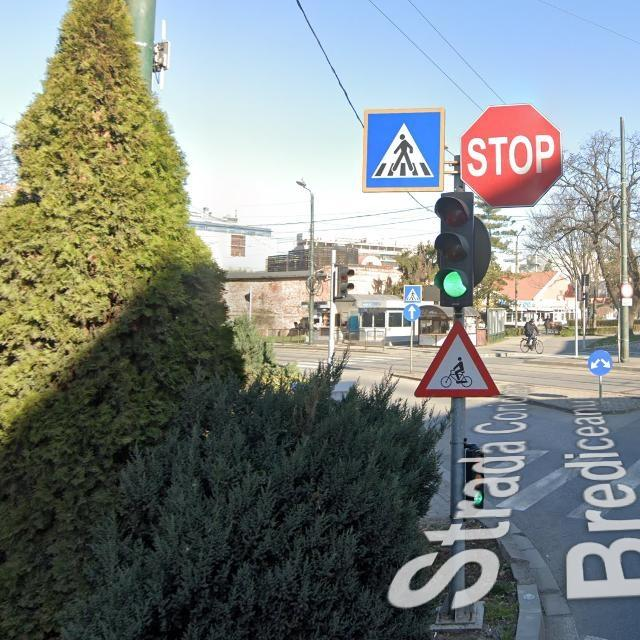info_crosswalk: (362, 108, 445, 192), (404, 285, 422, 304)
prio_stop: (459, 103, 563, 208)
